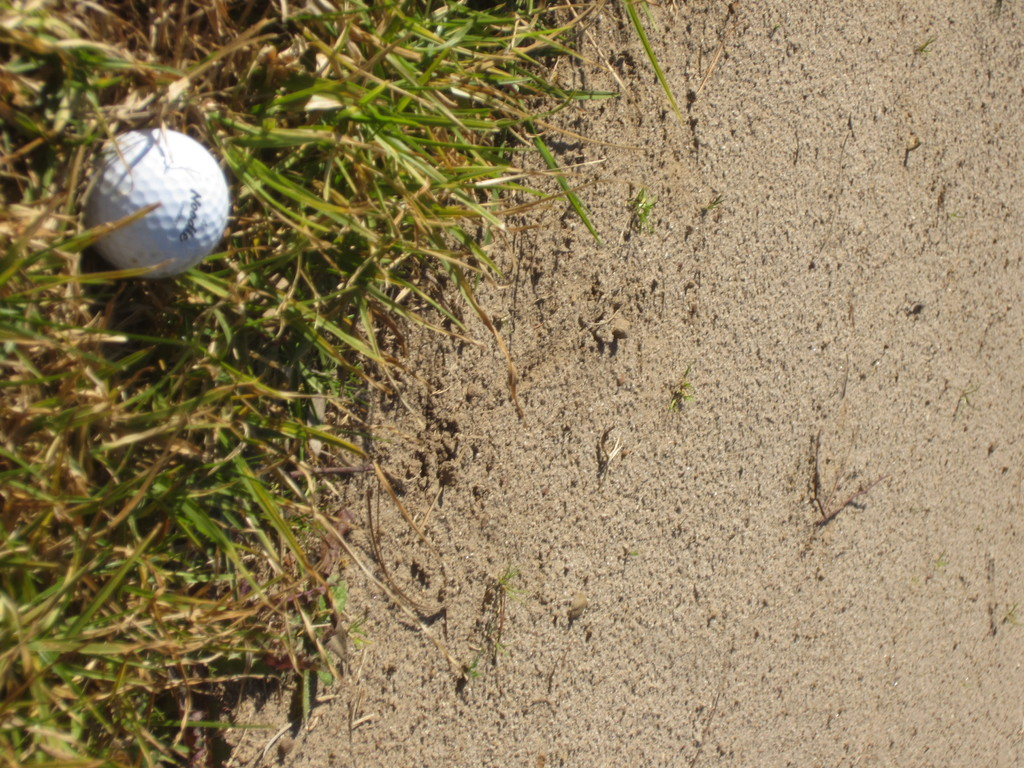Ball: (86, 125, 231, 283)
